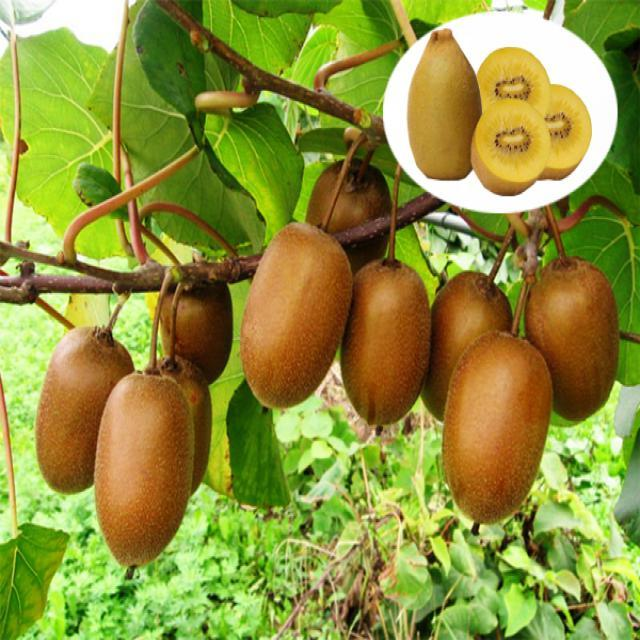kiwi: (443, 328, 553, 522), (241, 222, 352, 408), (95, 372, 194, 567), (34, 327, 136, 496), (524, 256, 620, 423), (419, 271, 513, 429), (344, 258, 432, 425), (305, 158, 393, 289), (134, 357, 211, 505), (157, 264, 233, 387)
